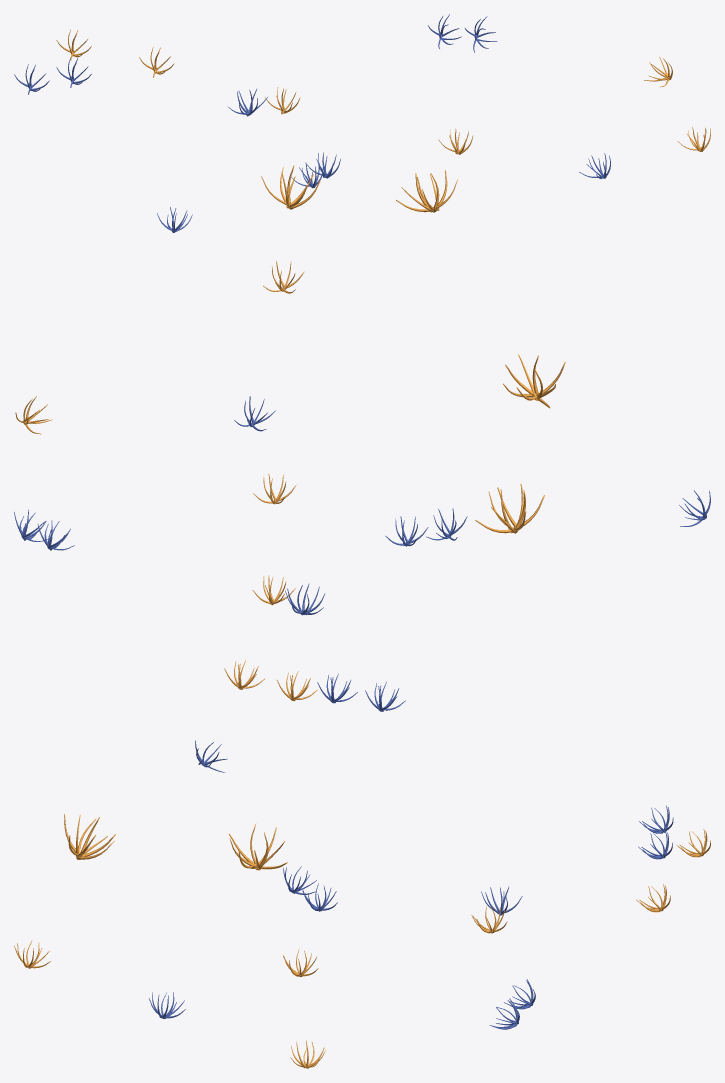
Rendered from Grass.glb.
3 views of the same model, one above another, from view 1: azimuth 30°, elevation 25°; view 2: azimuth 150°, elevation 25°; view 3: azimuth 270°, elevation 25° (orthographic). The views are drawn at different scales.
Visible parts, largest first — view 1: 立方体.011, 立方体.010; view 2: 立方体.010, 立方体.011; view 3: 立方体.011, 立方体.010.
Boxes of the visible parts, bbox=[...] form: 立方体.011: bbox=[396, 170, 457, 212]; 立方体.010: bbox=[261, 165, 320, 209]; 立方体.010: bbox=[475, 483, 544, 533]; 立方体.011: bbox=[503, 354, 565, 408]; 立方体.011: bbox=[64, 814, 115, 859]; 立方体.010: bbox=[229, 824, 287, 870].
Size of the model in its own units: 408 by 67.19 by 411.
